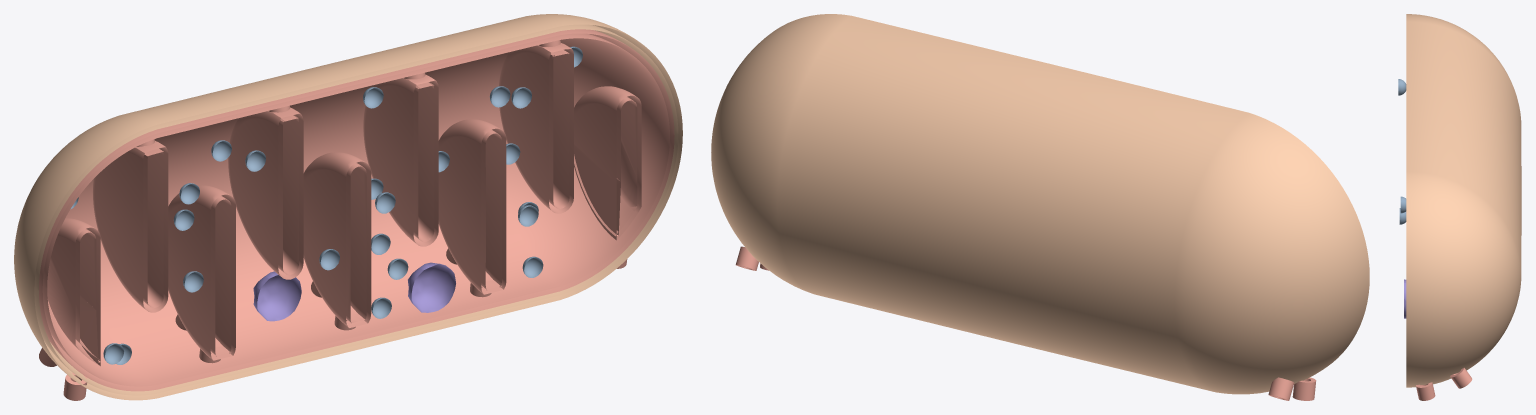
Rendered from mitochondrion.glb.
3 views of the same model, side by side, from view 1: azimuth 30°, elevation 25°; view 2: azimuth 150°, elevation 25°; view 3: azimuth 270°, elevation 25° (orthographic). The views are drawn at different scales.
Parts seen in each view (by area): view 1: InnerBoundaryMembrane, OuterMembrane, Crista_6, Crista_4, Crista_3, Crista_1, Crista_5, Crista_7, Crista_2, Crista_8, Crista_0, Nucleoid_1 (+1 smaller); view 2: OuterMembrane; view 3: OuterMembrane, Junction_8_0, Junction_8_1.
Boxes of the visible parts, x1,y1,x2,y2 form: InnerBoundaryMembrane: (39, 29, 674, 391); OuterMembrane: (14, 14, 682, 400); Crista_6: (438, 119, 506, 294); Crista_4: (303, 152, 371, 327); Crista_3: (228, 107, 303, 279); Crista_1: (92, 141, 168, 312); Crista_5: (363, 74, 438, 246); Crista_7: (499, 43, 573, 213); Crista_2: (168, 185, 235, 360); Crista_8: (574, 86, 641, 240); Crista_0: (47, 218, 101, 366); Nucleoid_1: (408, 262, 455, 312); OuterMembrane: (711, 14, 1369, 394); OuterMembrane: (1406, 14, 1521, 387); Junction_8_0: (1416, 382, 1435, 400); Junction_8_1: (1450, 367, 1472, 388).
Size of the model in its own units: 20.14 by 8.14 by 4.36.
